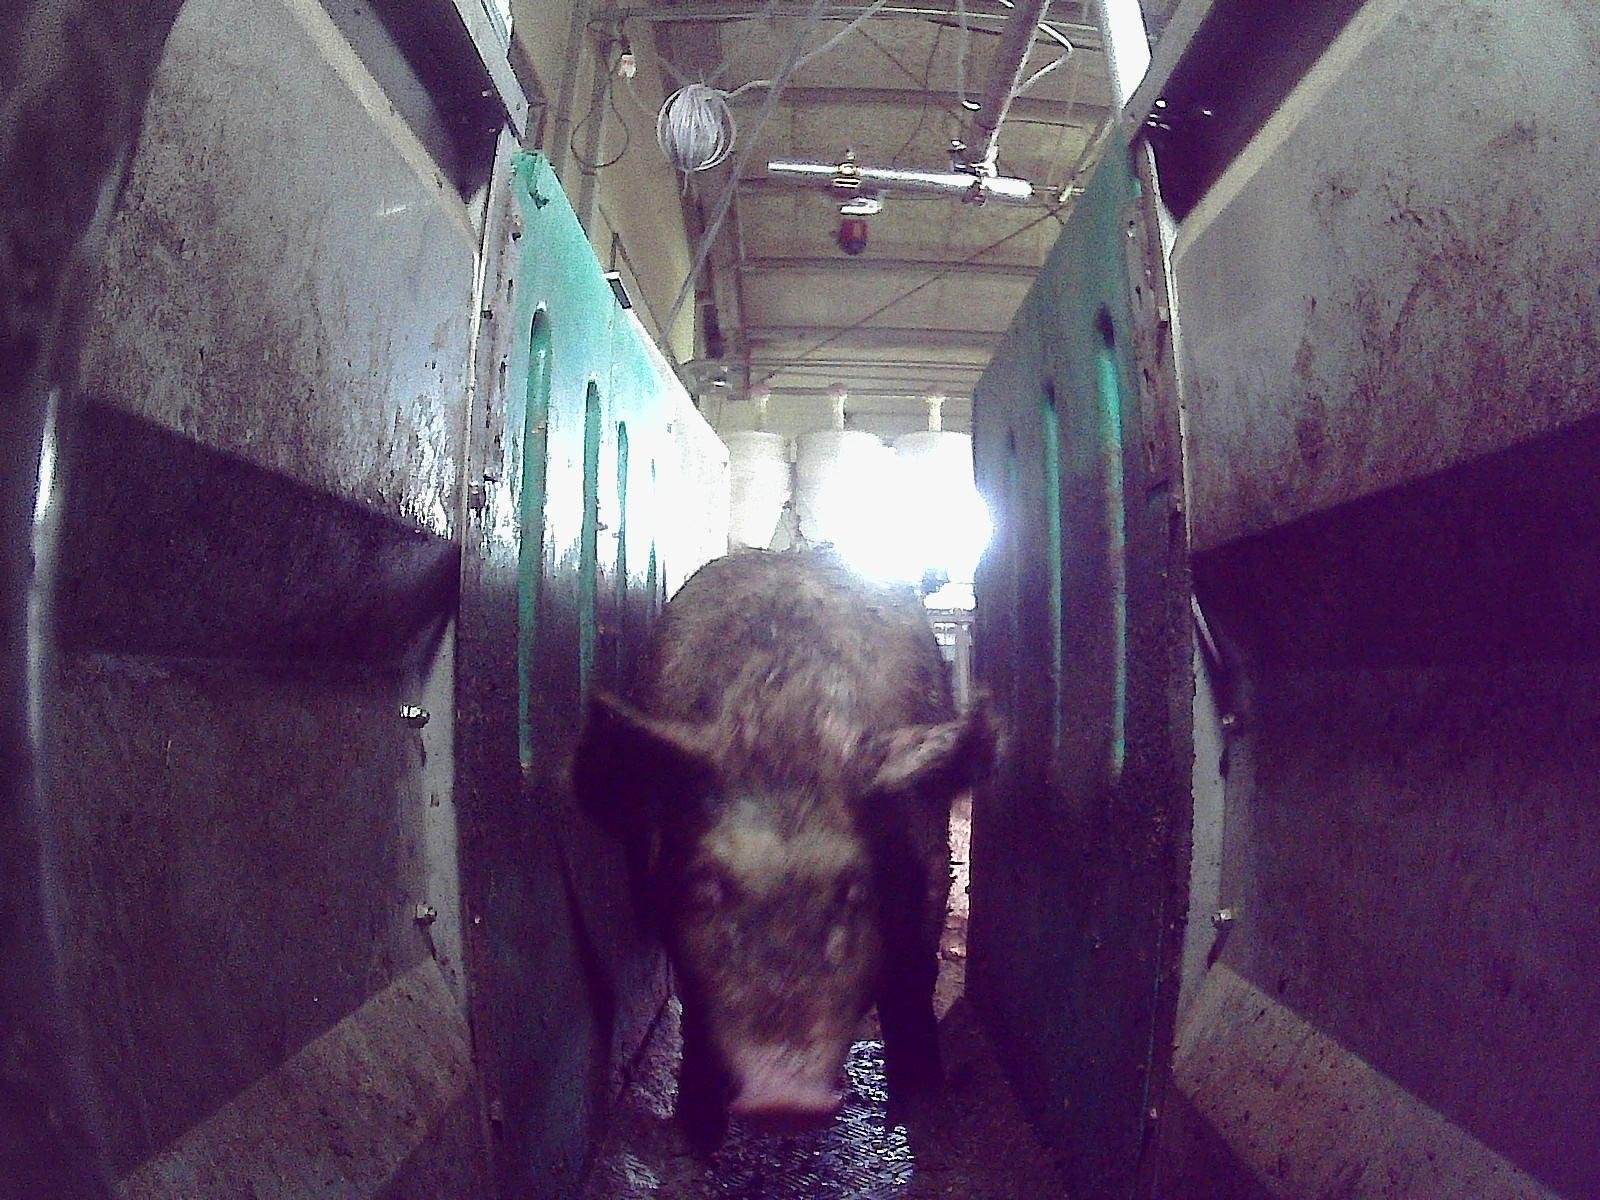Face: (652, 775, 901, 1129)
